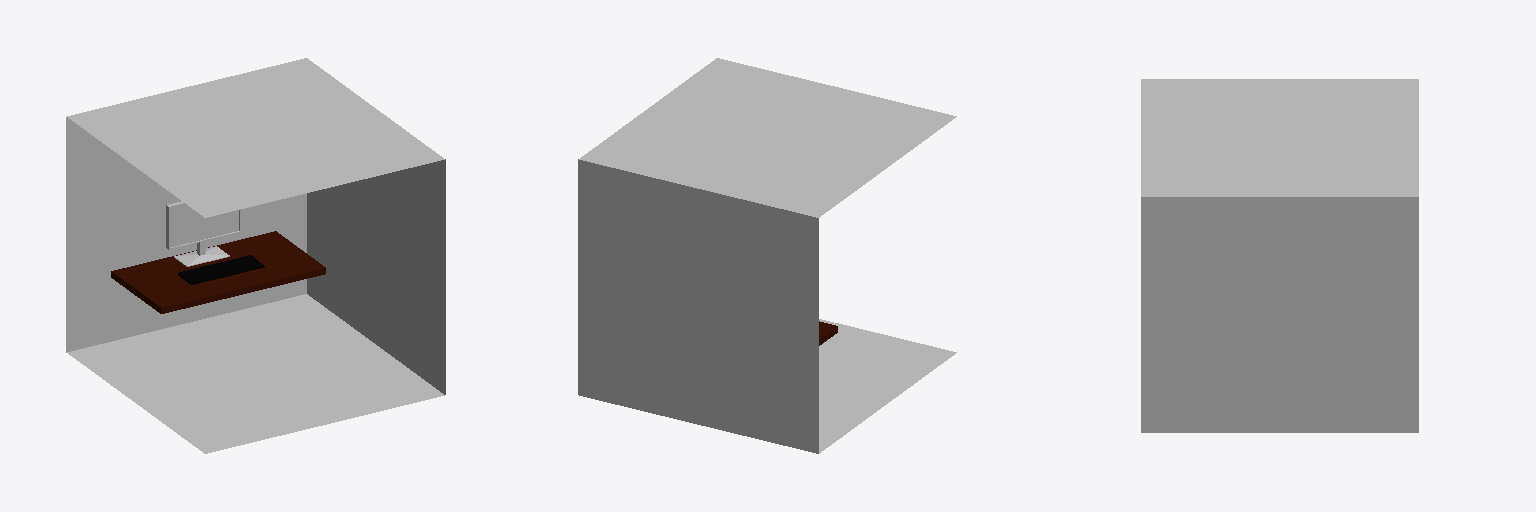
File: monitor.obj
The picture shows the model from 3 angles: view 1: azimuth 30°, elevation 25°; view 2: azimuth 150°, elevation 25°; view 3: azimuth 270°, elevation 25°; orthographic projection.
Parts seen in each view (by area): view 1: Cube.001, Plane, Cube, Cube.002; view 2: Cube.001; view 3: Cube.001.
Part boxes in pixels (bbox=[...]): Cube.001: bbox=[66, 58, 445, 453]; Plane: bbox=[111, 231, 325, 313]; Cube: bbox=[166, 201, 241, 266]; Cube.002: bbox=[178, 255, 264, 284]; Cube.001: bbox=[578, 58, 956, 453]; Cube.001: bbox=[1141, 79, 1418, 432].
Size of the model in its own units: 111 by 104 by 111.